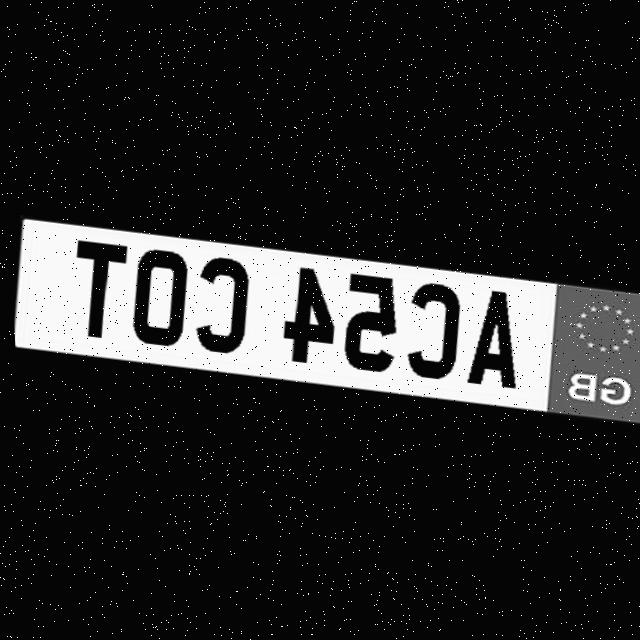license-plates: (13, 216, 640, 422)
